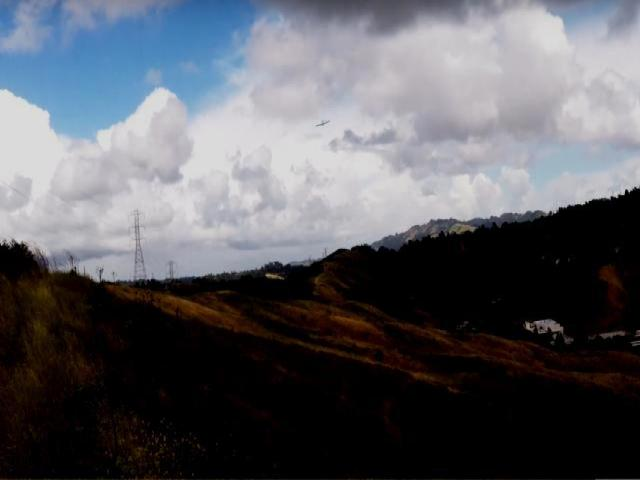iha: (309, 118, 333, 128)
